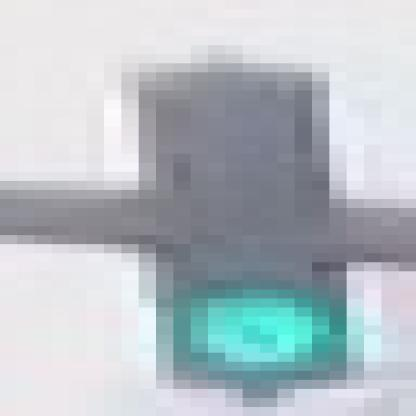Green Light: (135, 69, 360, 387)
